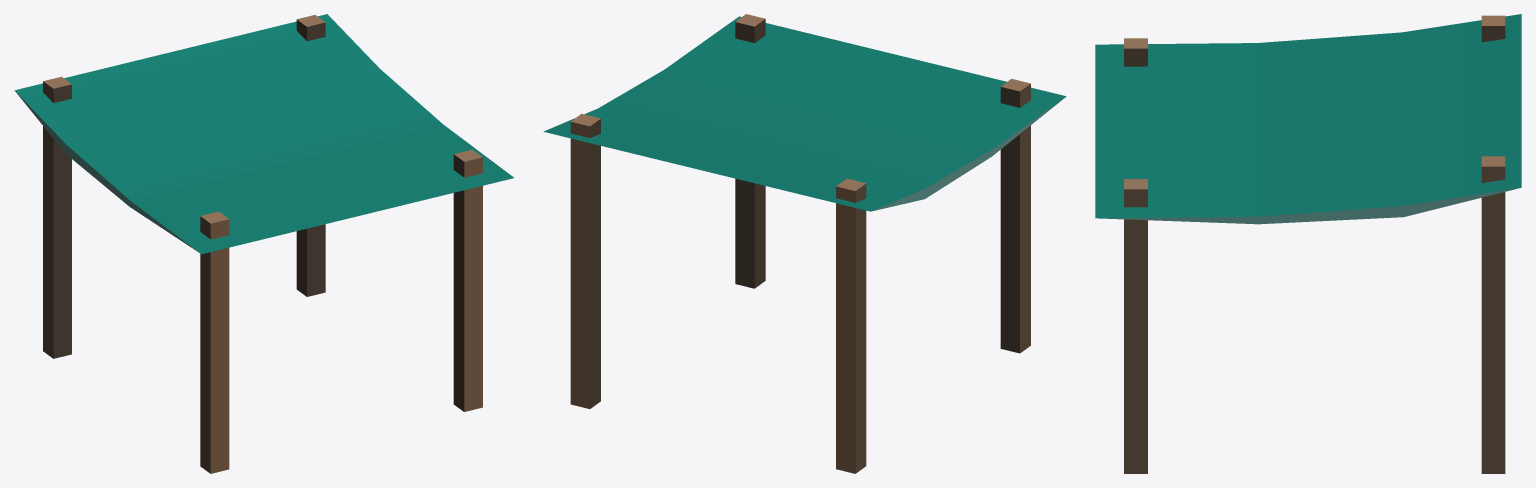
The model's file is TB_D_Prop_StoreTent_Small_B.FBX.
3 views of the same model, side by side, from view 1: azimuth 30°, elevation 25°; view 2: azimuth 150°, elevation 25°; view 3: azimuth 270°, elevation 25° (orthographic). The views are drawn at different scales.
Parts seen in each view (by area): view 1: TB_D_Prop_StoreTent_Small_B; view 2: TB_D_Prop_StoreTent_Small_B; view 3: TB_D_Prop_StoreTent_Small_B.
Boxes of the visible parts, x1,y1,x2,y2 form: TB_D_Prop_StoreTent_Small_B: (14,14,513,473); TB_D_Prop_StoreTent_Small_B: (543,14,1066,473); TB_D_Prop_StoreTent_Small_B: (1095,14,1521,473).
Bounding box in the file's own units: 2.33 × 1.92 × 2.41.
